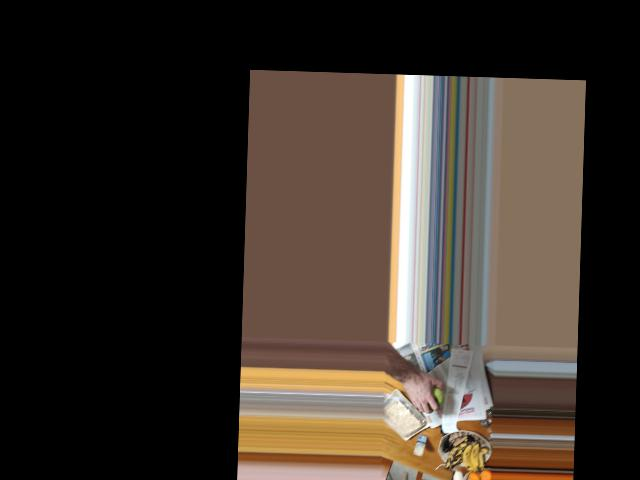apple: (417, 382, 443, 410)
